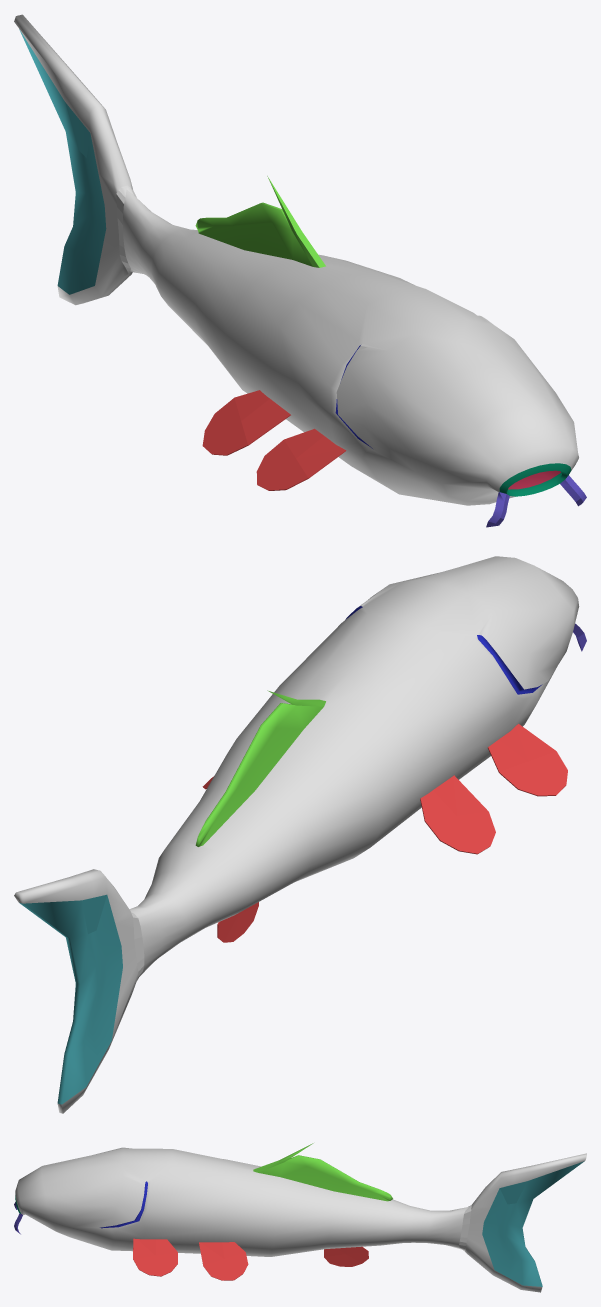
File: SM_CoiFish_01.FBX
3 views of the same model, one above another, from view 1: azimuth 30°, elevation 25°; view 2: azimuth 150°, elevation 25°; view 3: azimuth 270°, elevation 25° (orthographic). The views are drawn at different scales.
Visible parts, largest first — view 1: SM_CoiFish_01; view 2: SM_CoiFish_01; view 3: SM_CoiFish_01.
Part boxes in pixels (x1,y1,x2,y2): SM_CoiFish_01: (14,14,586,527); SM_CoiFish_01: (14,556,586,1113); SM_CoiFish_01: (14,1143,586,1292).
Size of the model in its own units: 8.91 by 7.75 by 26.89.
